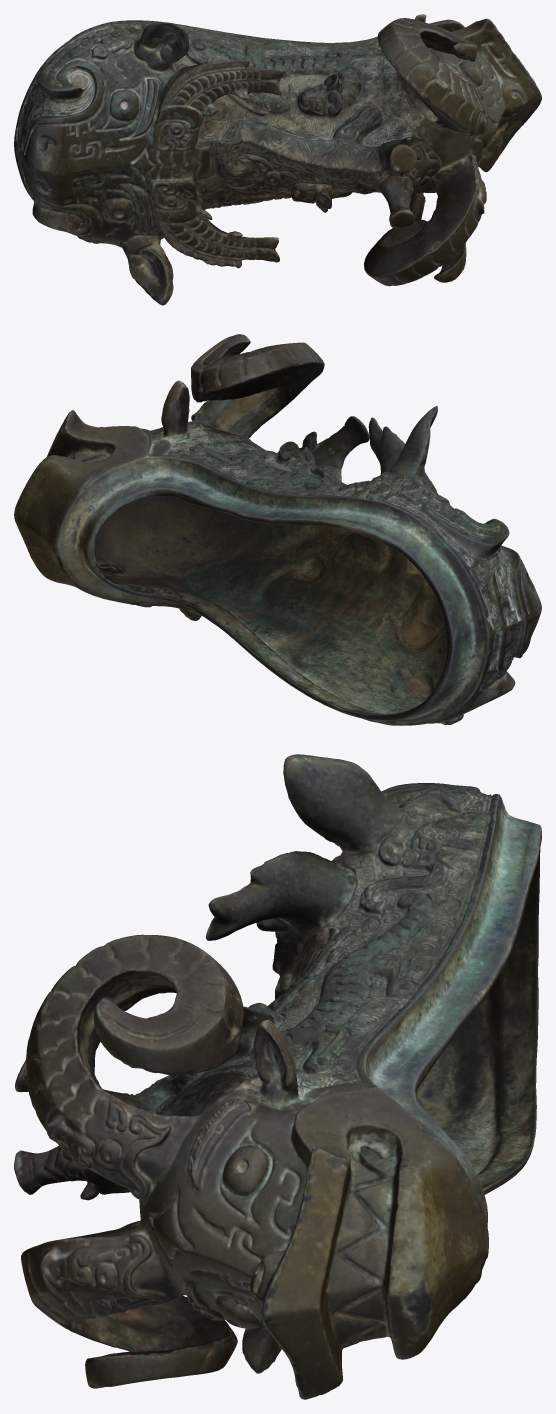
Rendered from ewer-lid-200k-4096-high.glb.
3 views of the same model, one above another, from view 1: azimuth 30°, elevation 25°; view 2: azimuth 150°, elevation 25°; view 3: azimuth 270°, elevation 25° (orthographic). The views are drawn at different scales.
Bounding box in the file's own units: 0.2605 × 0.1432 × 0.1467.
1 material, 1 textured.
